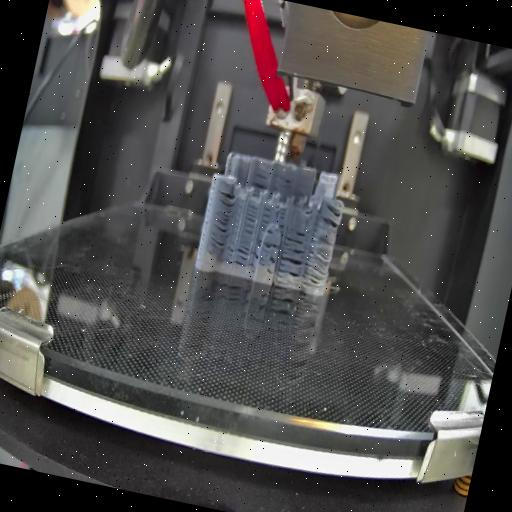cracks: (204, 188, 238, 251), (300, 234, 334, 289), (276, 245, 306, 284), (316, 204, 344, 228), (242, 206, 258, 236), (248, 238, 262, 272), (232, 244, 250, 270), (284, 228, 306, 246), (249, 172, 268, 191), (259, 238, 280, 254), (262, 254, 276, 278), (274, 205, 288, 229), (222, 241, 236, 265), (275, 174, 292, 190), (260, 204, 272, 226), (264, 228, 274, 238)
